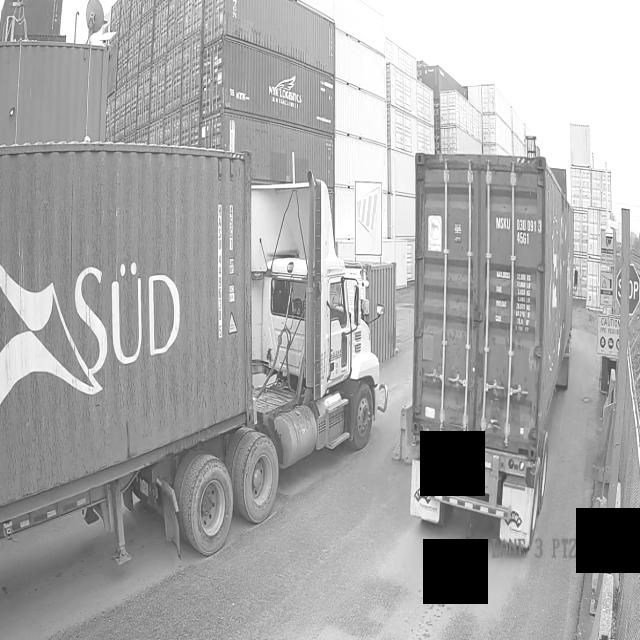container_number: (492, 212, 543, 254)
container_side_no: (214, 193, 225, 344)
truck_with_container: (397, 154, 573, 545)
